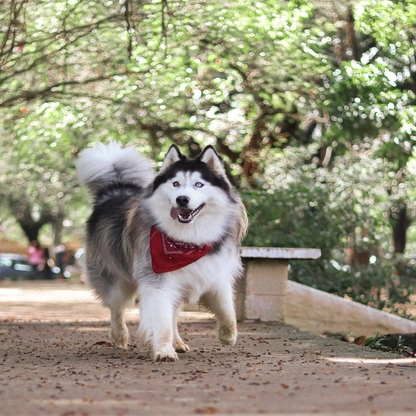husky: (71, 136, 256, 367)
